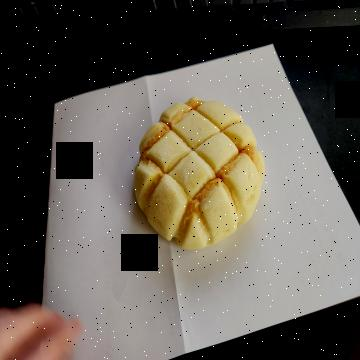melon_bread: (136, 100, 263, 247)
